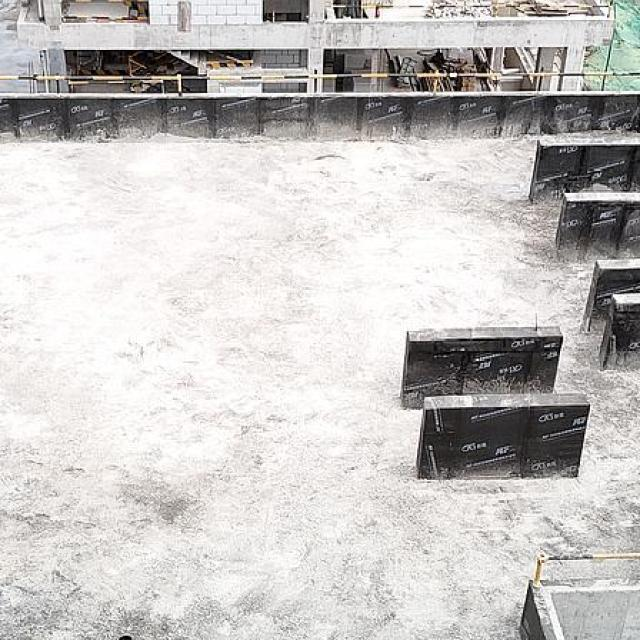edge_guardrail: (0, 72, 640, 95), (324, 3, 613, 18), (534, 553, 640, 586), (61, 0, 149, 21)
